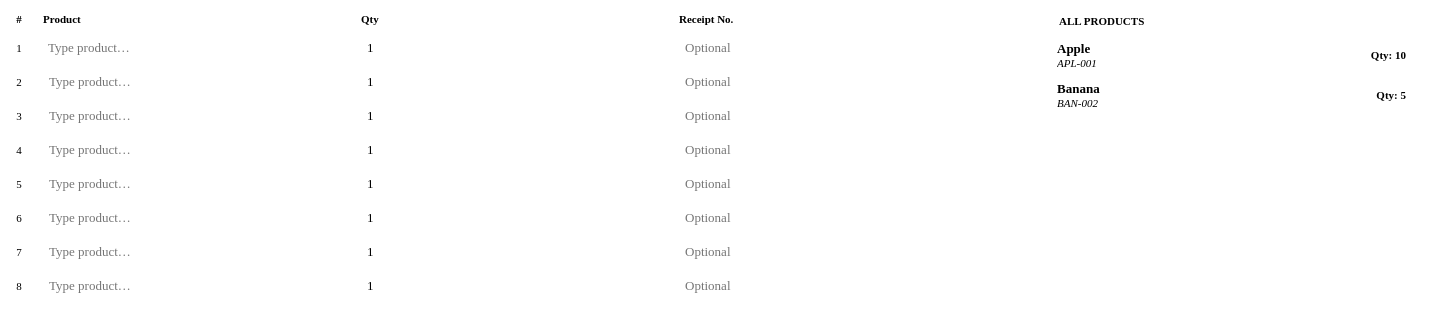
Scenario: LinearGridEntry — keyboard model › committed row inputs are disabled
The width and height of the screenshot is (1433, 310).
Click the option with test id "search-result-P1": (1074, 48) x1=1045 y1=35 x2=1425 y2=75
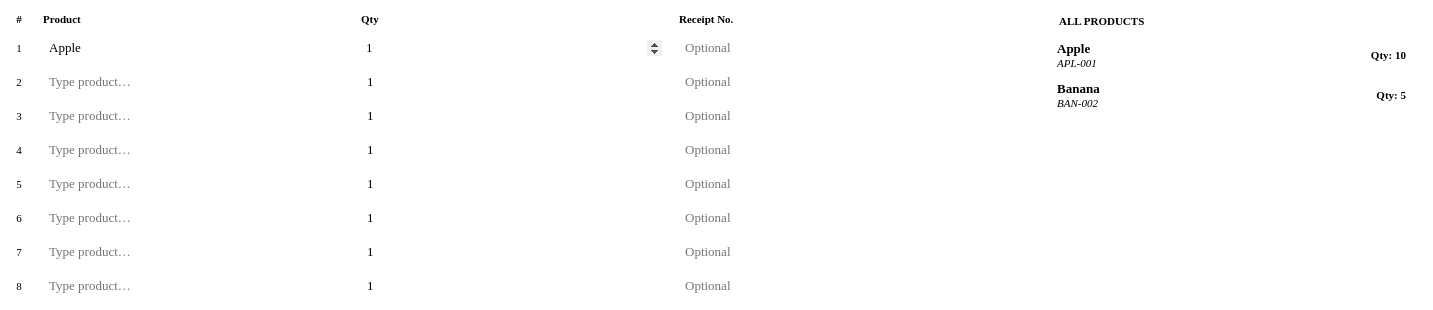
Expected: the field with test id "cell-0-product" holds "Apple", x1=41 y1=34 x2=351 y2=62
Press Enter in the number field with test id "cell-0-quantity", box x1=359 y1=35 x2=669 y2=61
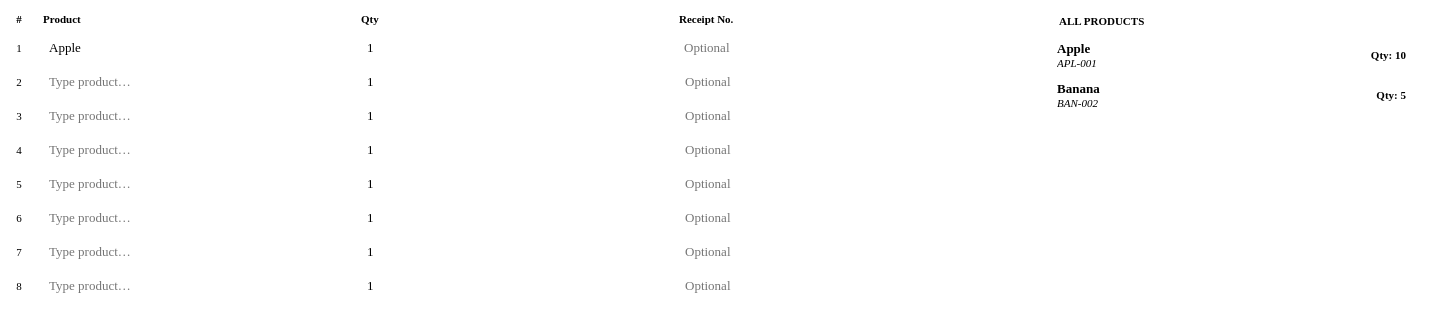
Press Enter in the field with test id "cell-0-reference_number", box x1=677 y1=35 x2=987 y2=61
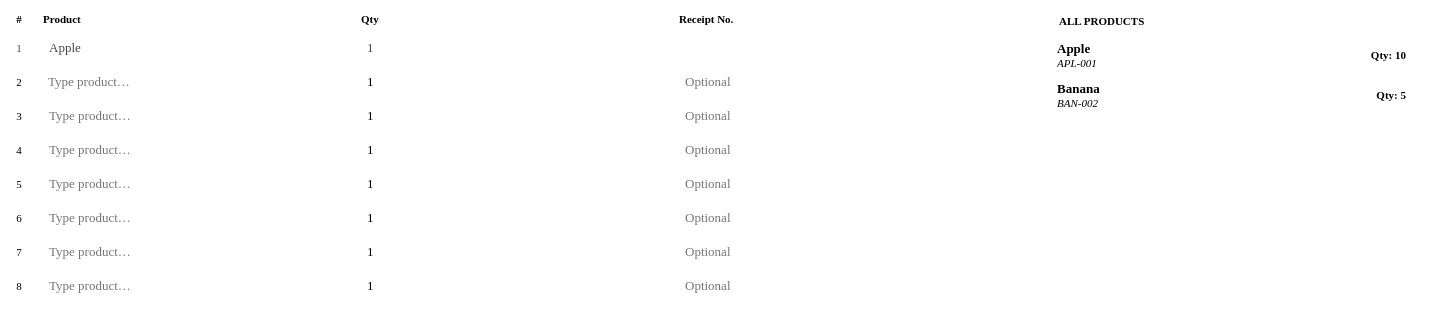
Expected: the number field with test id "cell-0-quantity" is disabled, x1=359 y1=34 x2=669 y2=62
Expected: the field with test id "cell-0-product" is disabled, x1=41 y1=34 x2=351 y2=62
